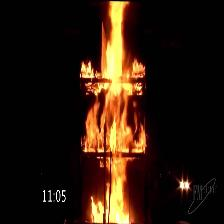fire: (98, 1, 129, 222)
